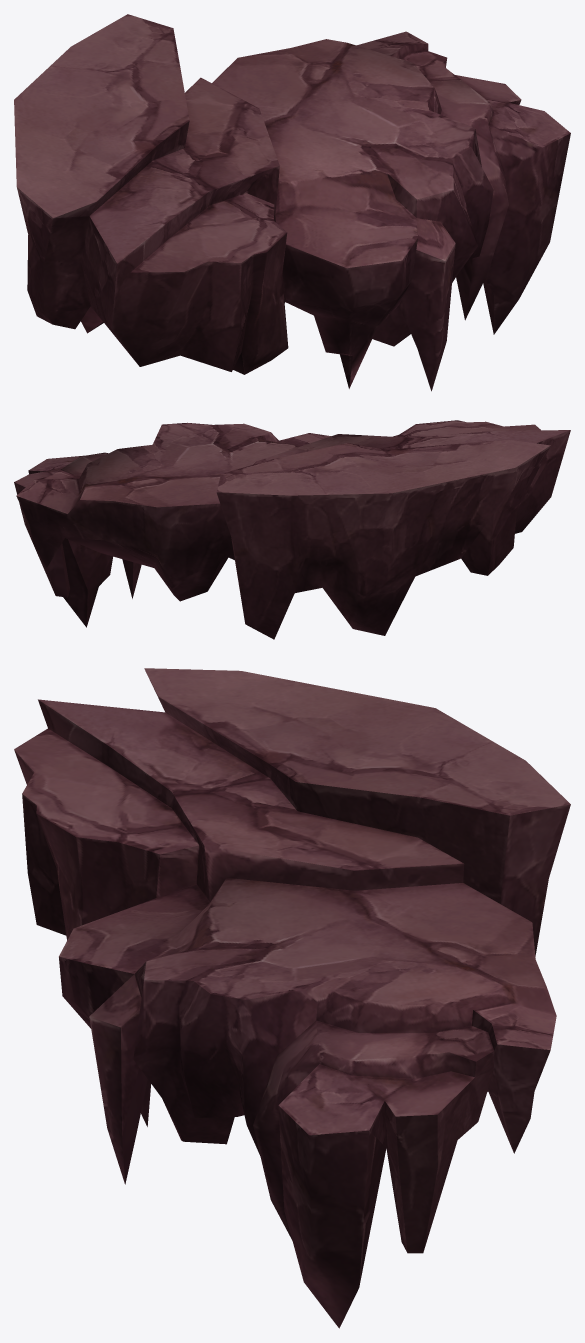
File: BOSS_E_01.FBX
3 renders of one model, top to bottom at view 1: azimuth 30°, elevation 25°; view 2: azimuth 150°, elevation 25°; view 3: azimuth 270°, elevation 25°, orthographic. The views are drawn at different scales.
Parts seen in each view (by area): view 1: BOSS_E_01; view 2: BOSS_E_01; view 3: BOSS_E_01.
Part boxes in pixels (x1,y1,x2,y2): BOSS_E_01: [14, 14, 570, 391]; BOSS_E_01: [14, 420, 570, 639]; BOSS_E_01: [14, 668, 570, 1328].
Size of the model in its own units: 24.68 by 12.62 by 17.19.
